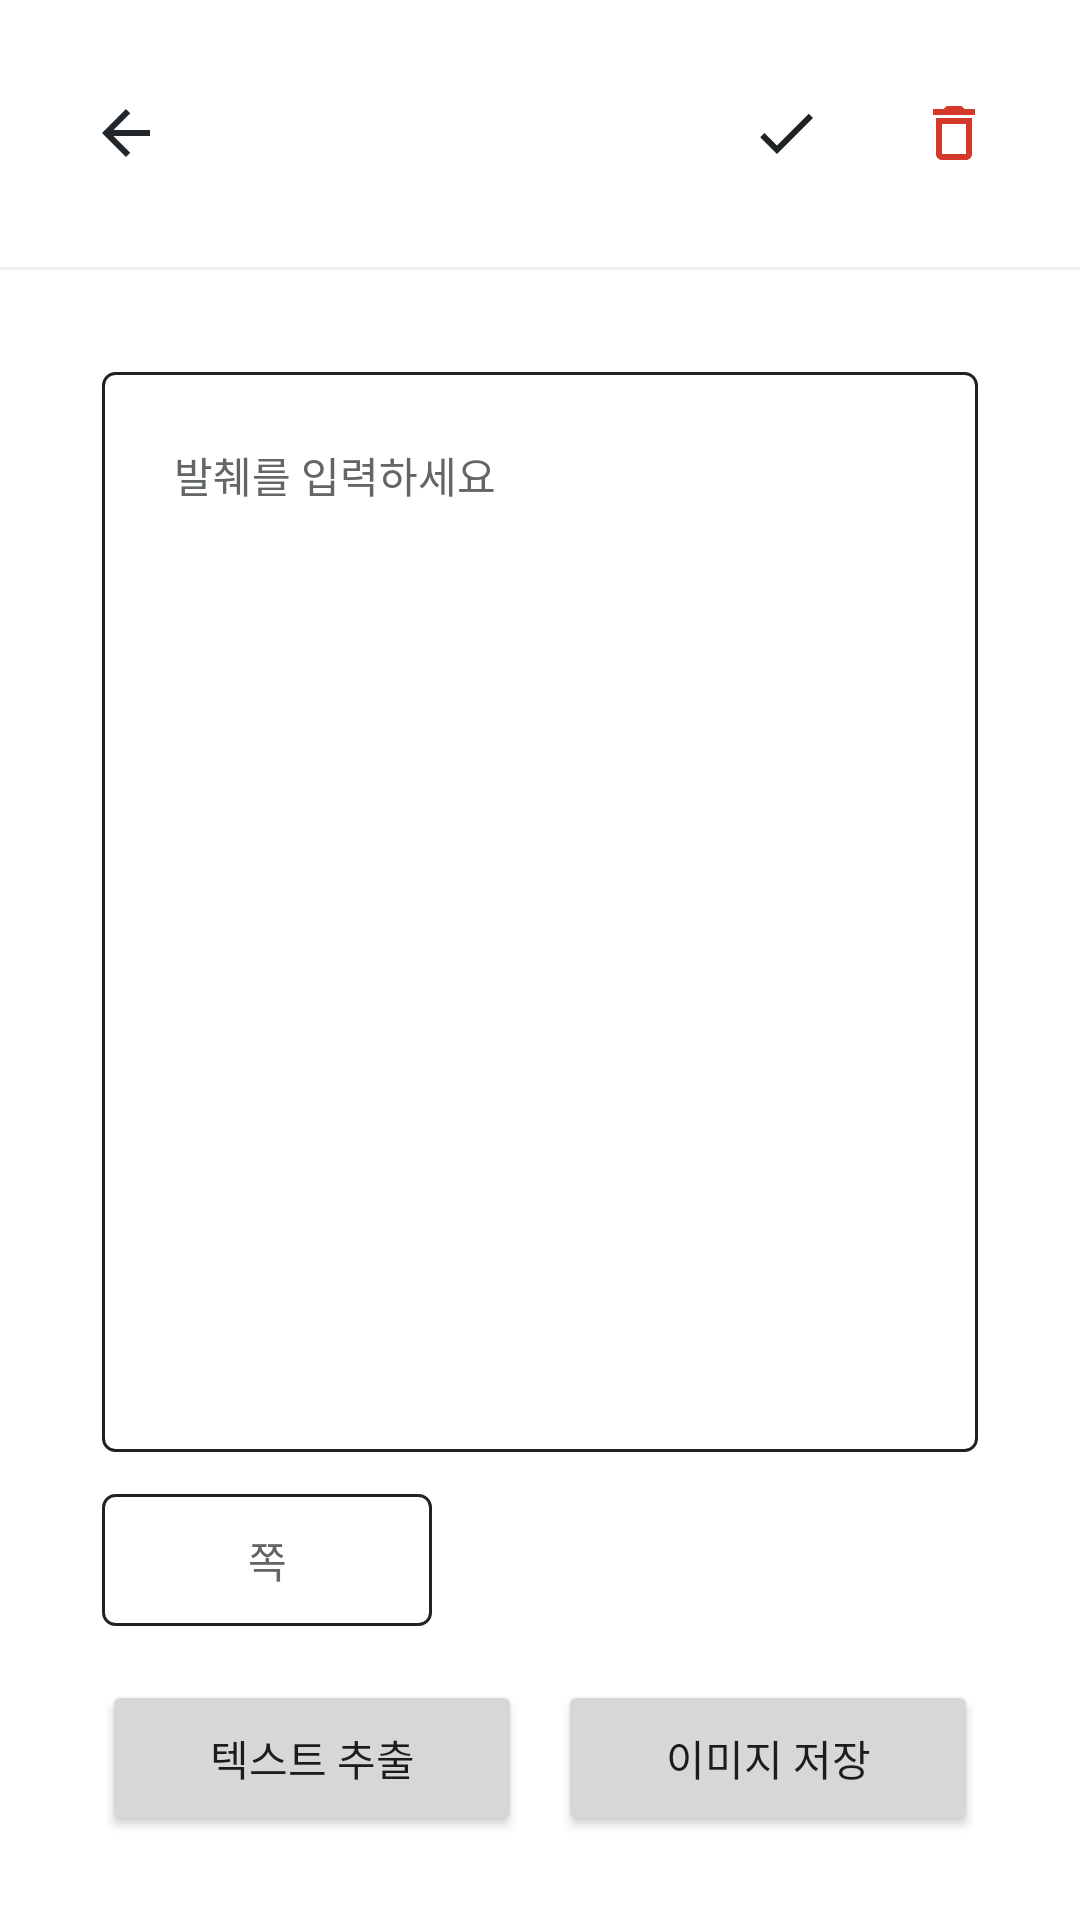

Where to tap for icons on this 1080px x 1920px app screen, as [x,y]:
뒤로가기: [126,133]
삭제: [954,133]
저장: [786,134]
